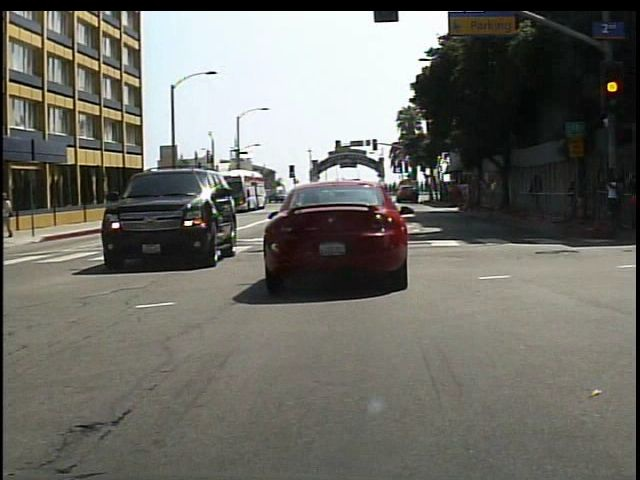person: (5, 190, 18, 238)
